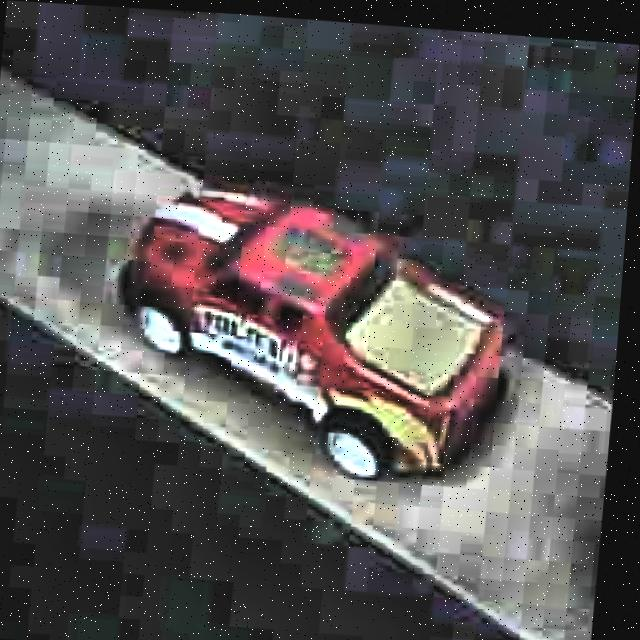car: (101, 168, 528, 492)
